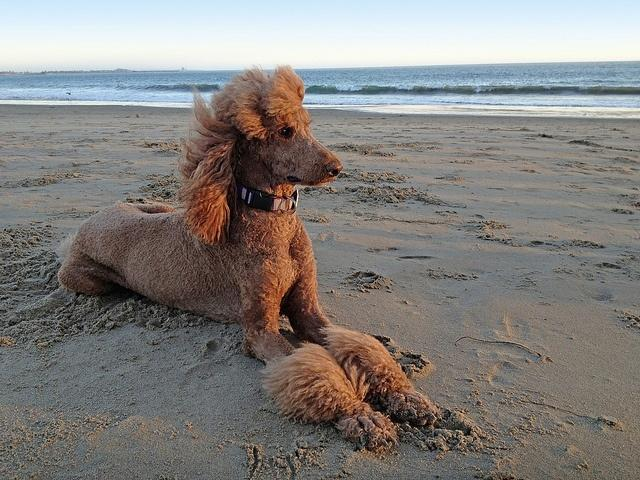dog: (59, 67, 434, 448)
